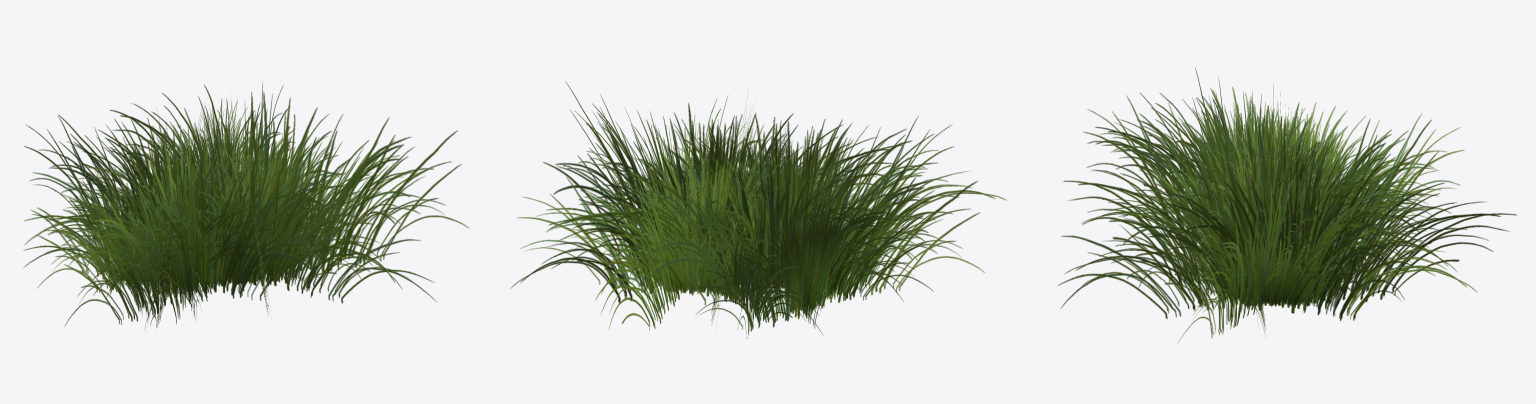
The model's file is grass1.glb.
3 renders of one model, left to right at view 1: azimuth 30°, elevation 25°; view 2: azimuth 150°, elevation 25°; view 3: azimuth 270°, elevation 25°, orthographic. The views are drawn at different scales.
Parts seen in each view (by area): view 1: Grass large 1; view 2: Grass large 1; view 3: Grass large 1.
Boxes of the visible parts, left/top/right/bottom form: Grass large 1: left=23, top=82, right=468, bottom=328; Grass large 1: left=510, top=81, right=1006, bottom=338; Grass large 1: left=1058, top=67, right=1516, bottom=343.
Size of the model in its own units: 14.24 by 6.2 by 14.42.
Materials: 1 (1 with a texture image).
